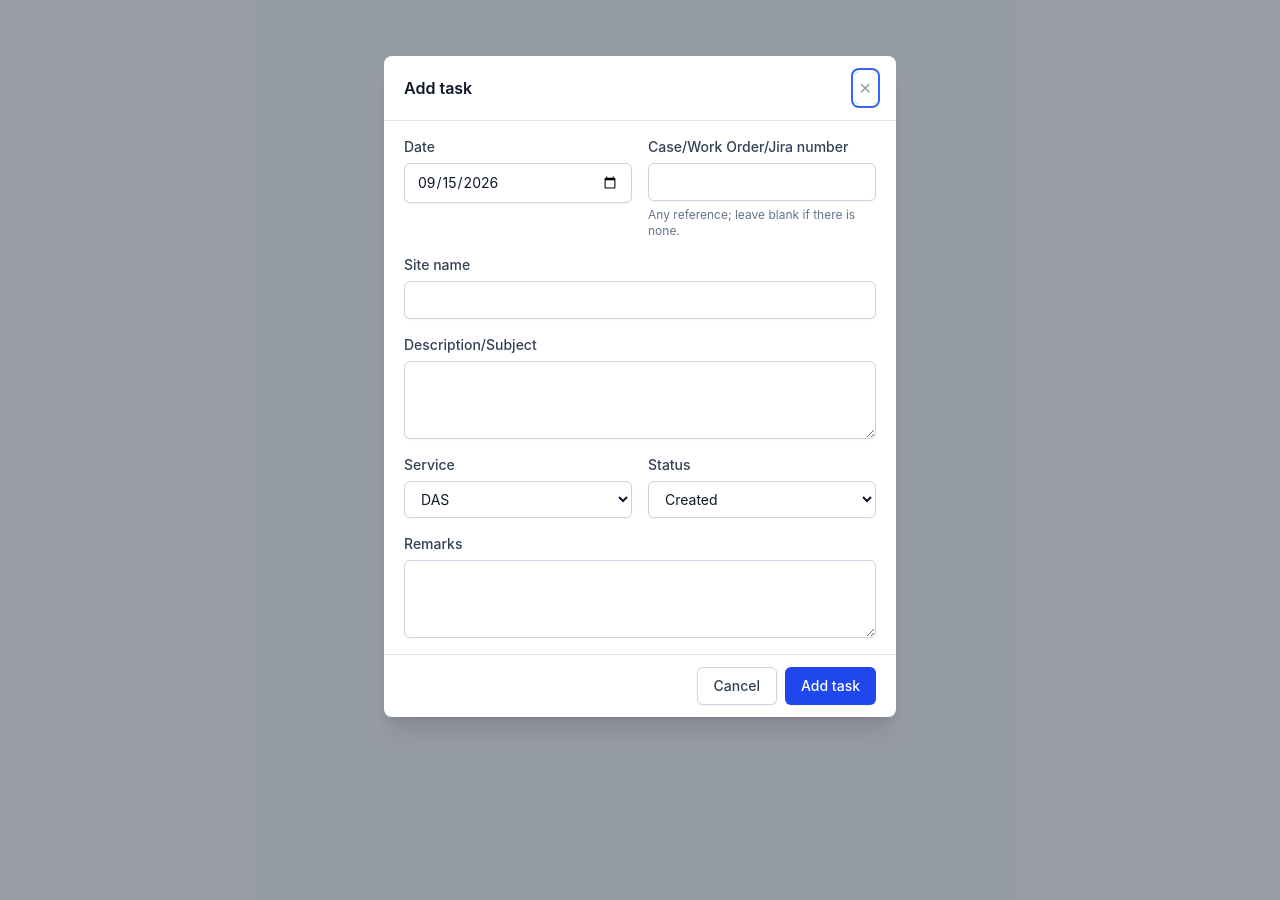
Test: TaskDialog › surfaces an API error instead of closing
Type "Bad task" into the text box labelled "Description/Subject" at (640, 400), box [404,361,876,439]
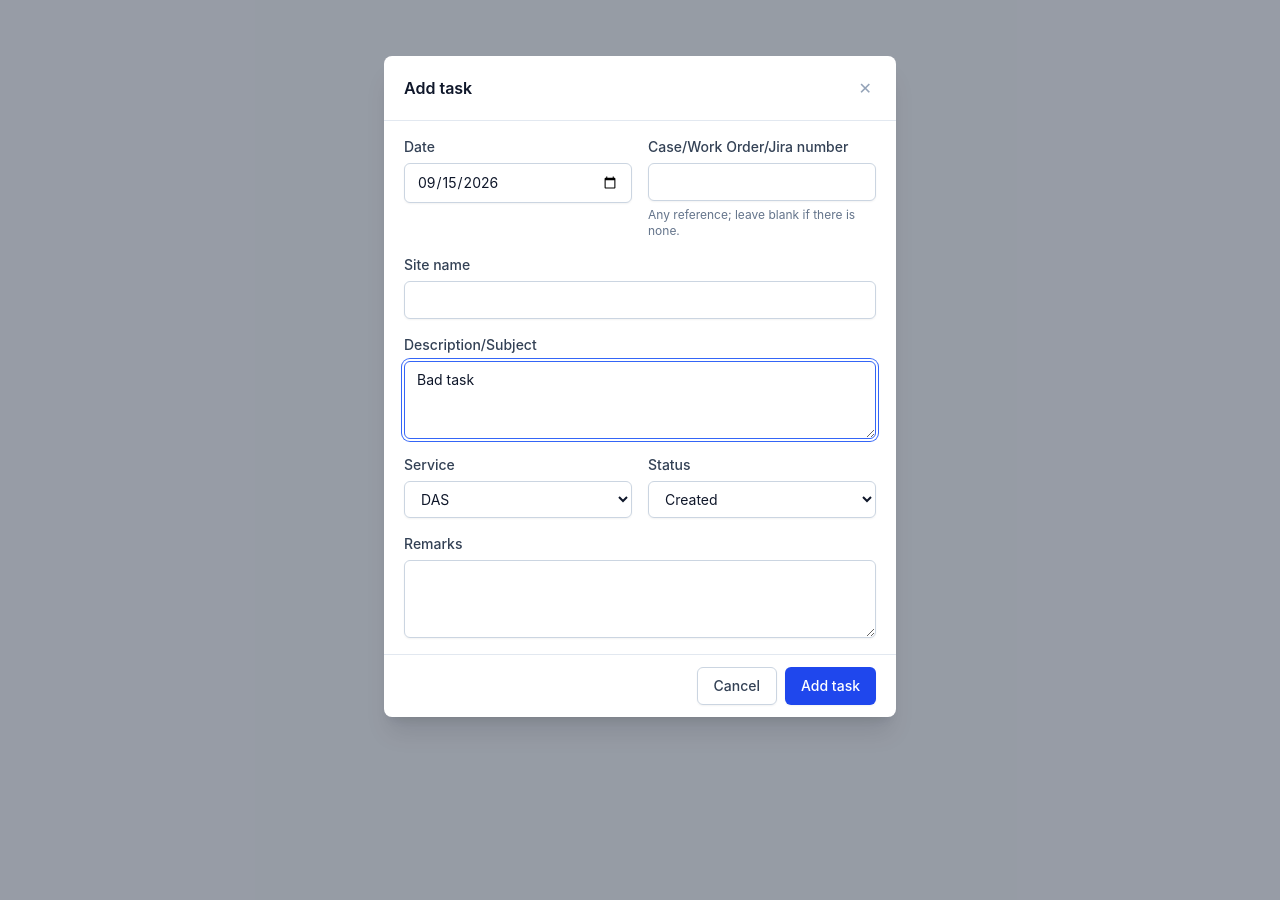
Click the button "Add task" at (830, 686), box [785,667,876,705]
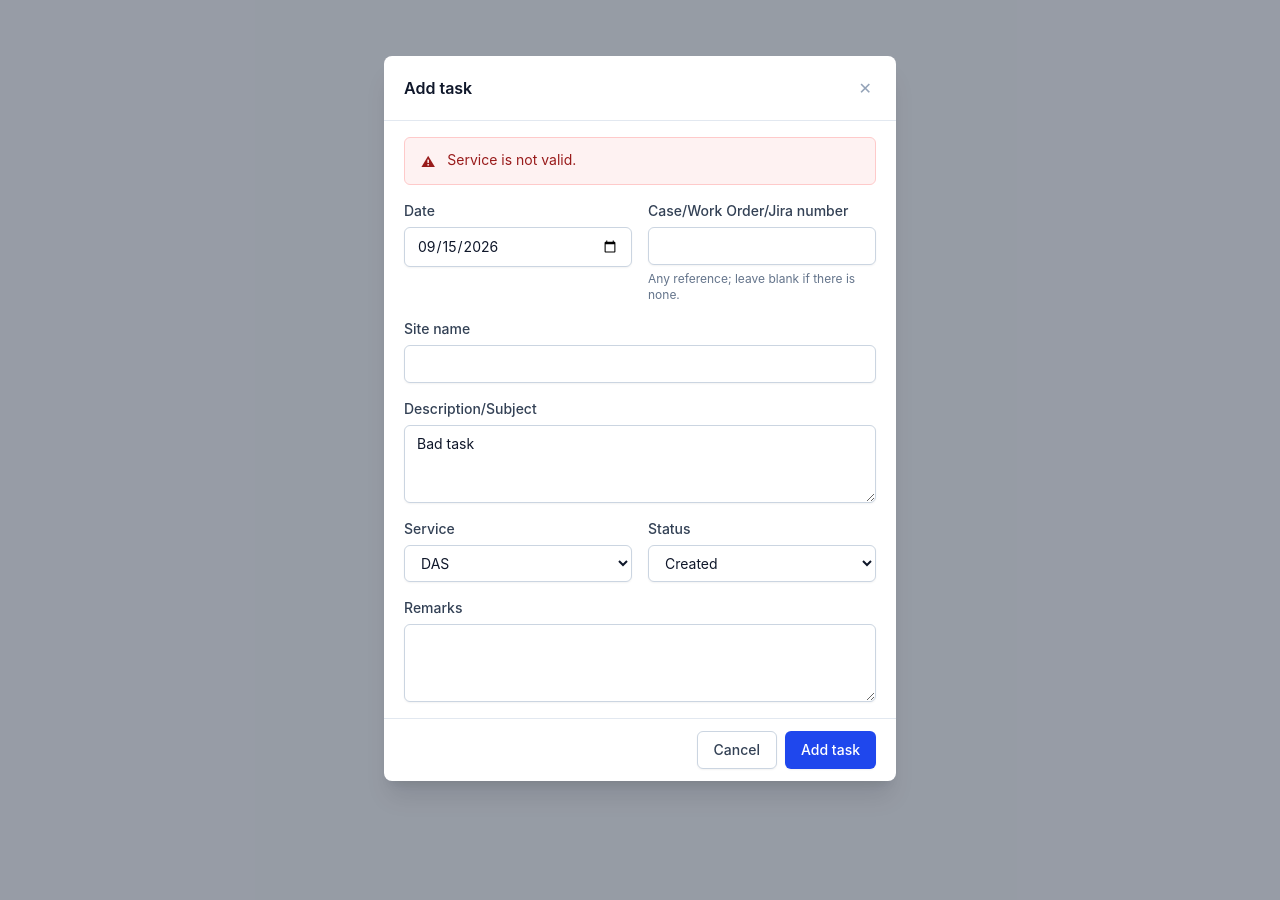
Check: the text "Service is not valid." is shown, box [447,151,576,168]
